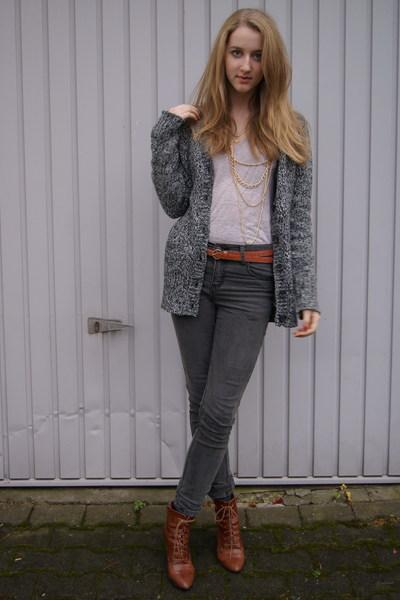jacket: (151, 116, 319, 323)
pants: (168, 259, 286, 509)
shirt: (209, 135, 271, 244)
shoe: (164, 497, 244, 587)
